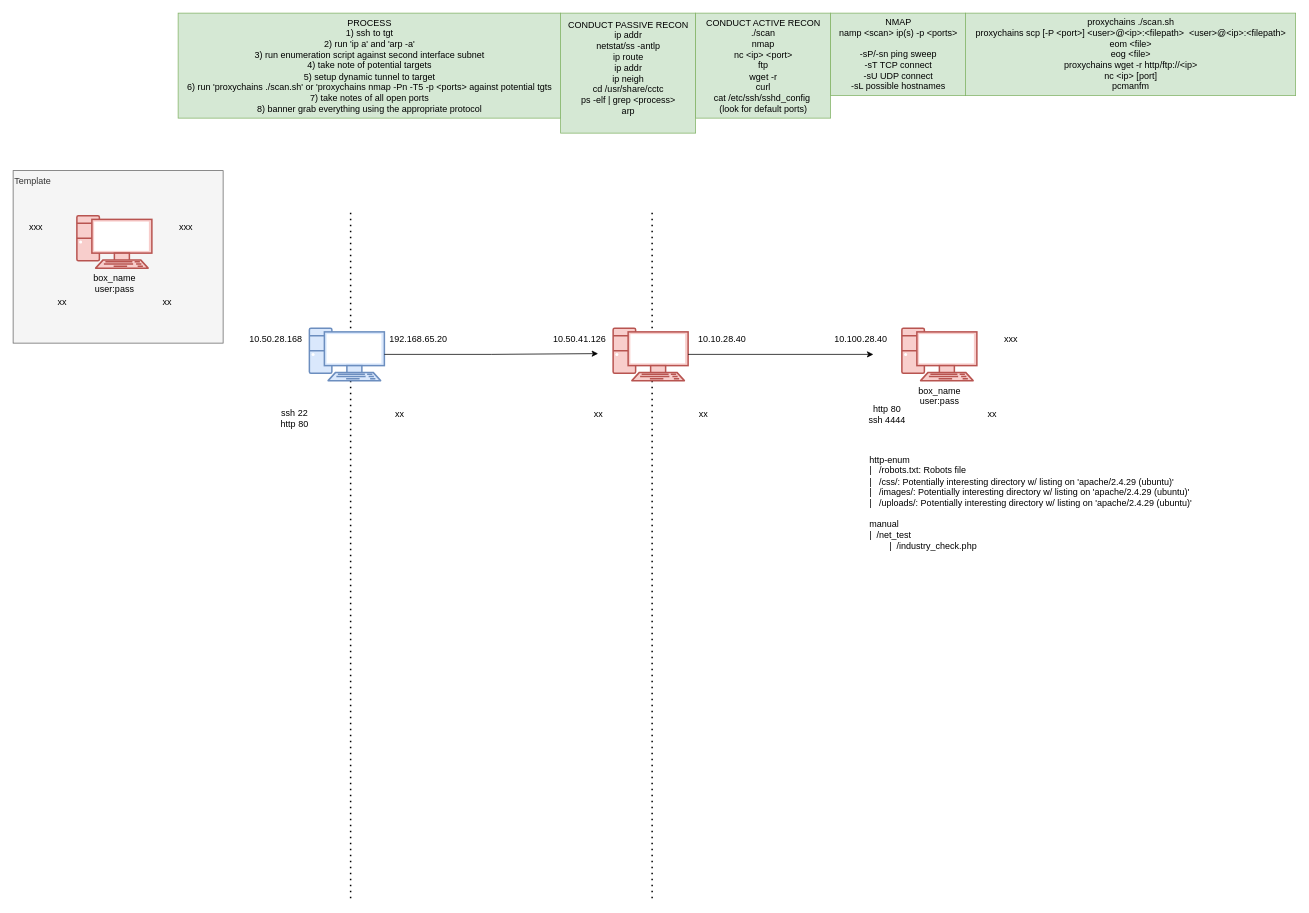
This 1309x913 diagram has some shape labels left out. The centre of each missing label's shape, as x and y in pixels:
"lin-ops student:password" belongs at point 346,354.
"pivot student:JQ00ViypQ4Vzuib" belongs at point 650,354.
